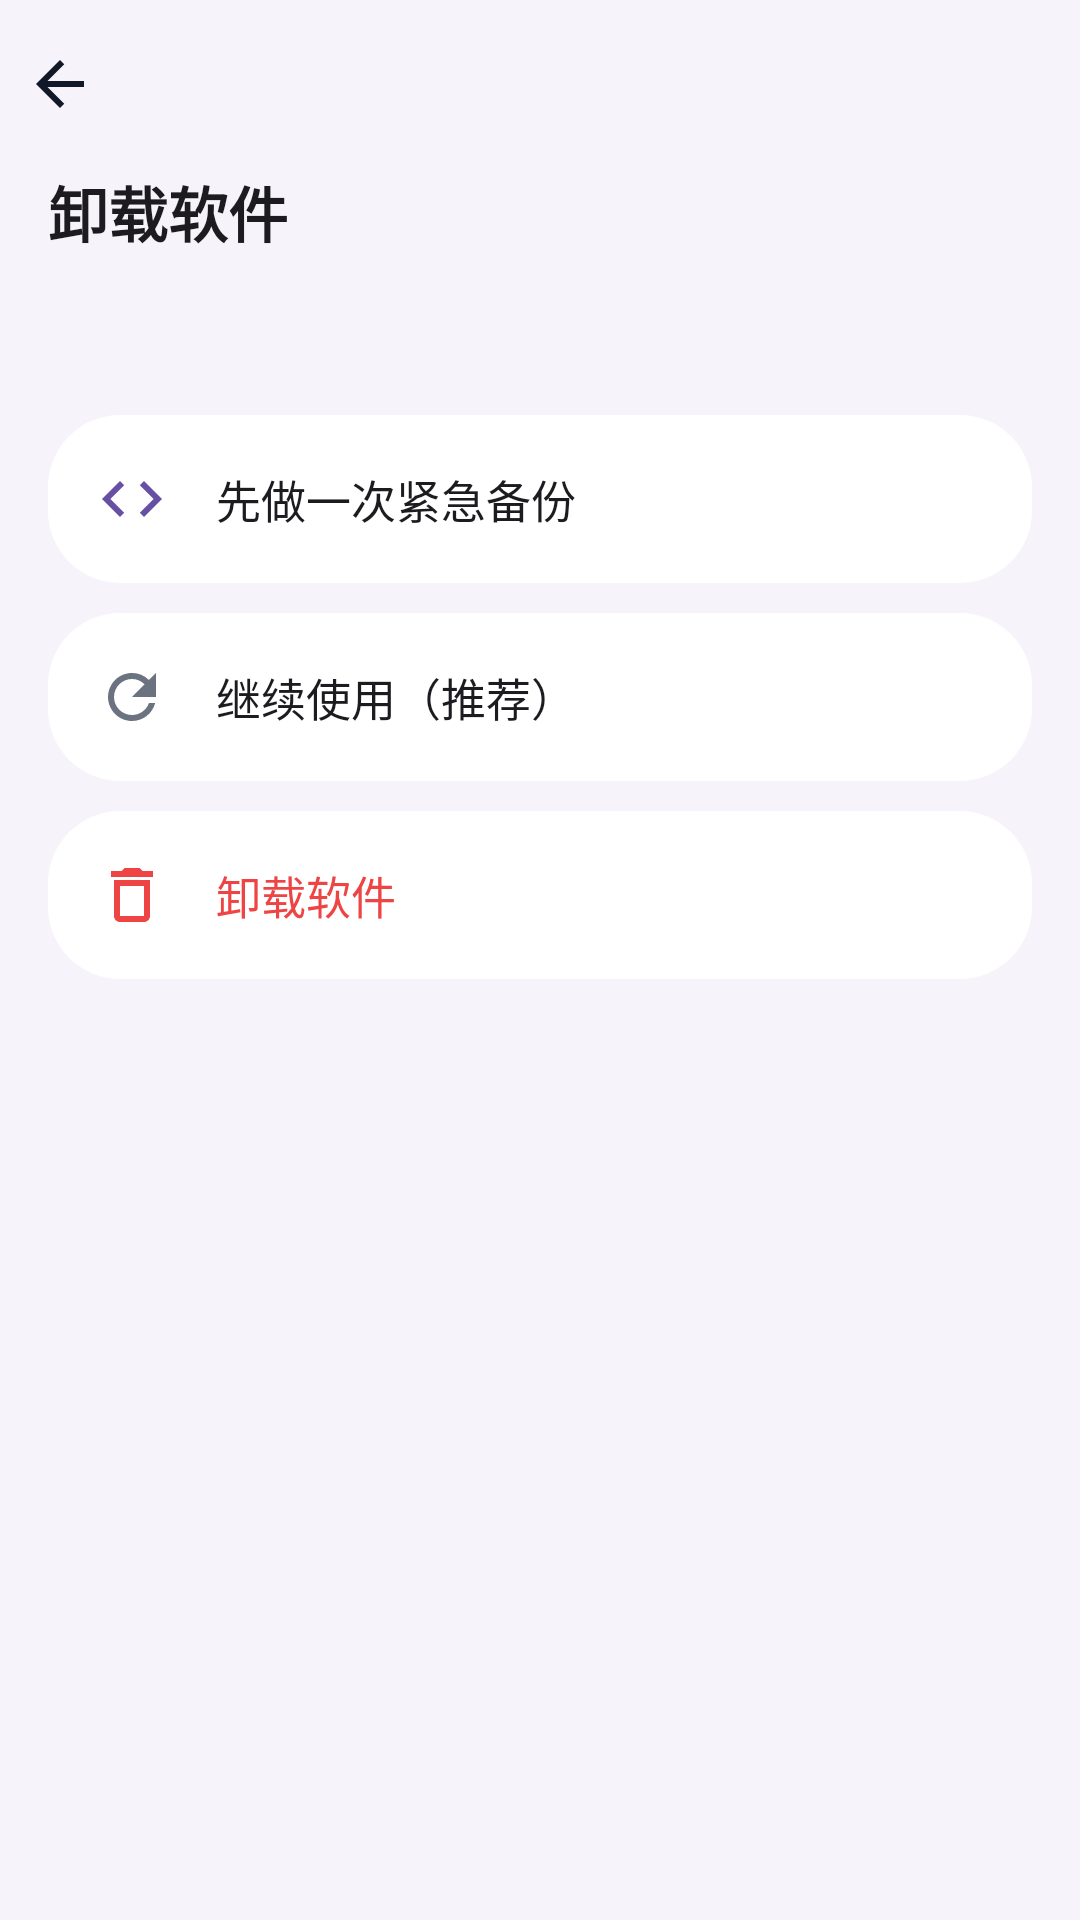

Icon bounding boxes for this 1080×1920 phone screenshot, format (x1, y1, x2, y2):
返回: (36, 60, 84, 108)
